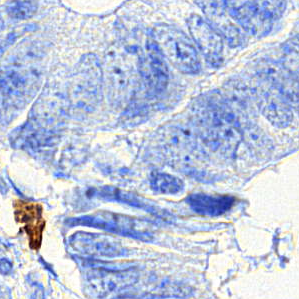Lymphocyte: (12, 197, 47, 253)
